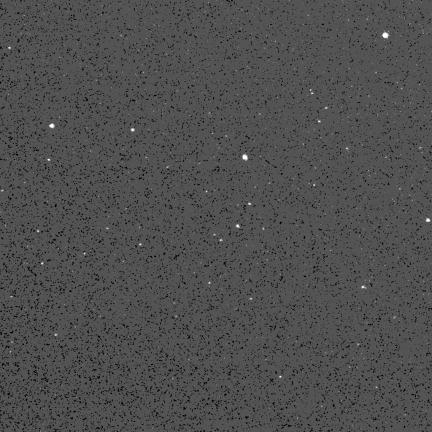blob: (243, 154, 248, 160), (383, 33, 388, 38), (426, 218, 431, 223), (49, 124, 54, 128), (236, 225, 240, 228), (54, 334, 58, 337), (249, 203, 252, 206), (131, 128, 134, 131), (48, 159, 51, 162)
